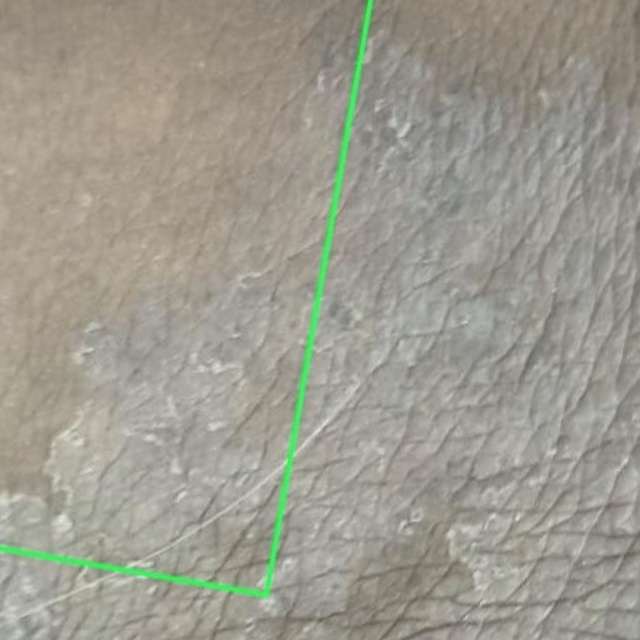Eczema: (0, 0, 370, 595)
